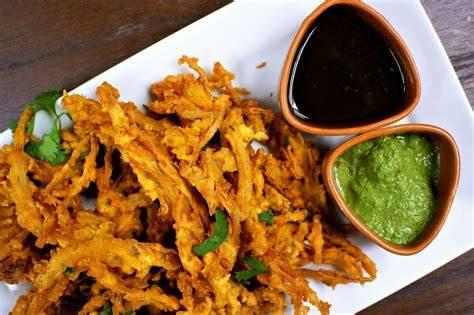GreenChutney: (335, 132, 439, 245)
OnionPakoda: (0, 55, 376, 315)
